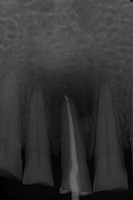Furcation Involvement: (36, 72, 96, 117)
